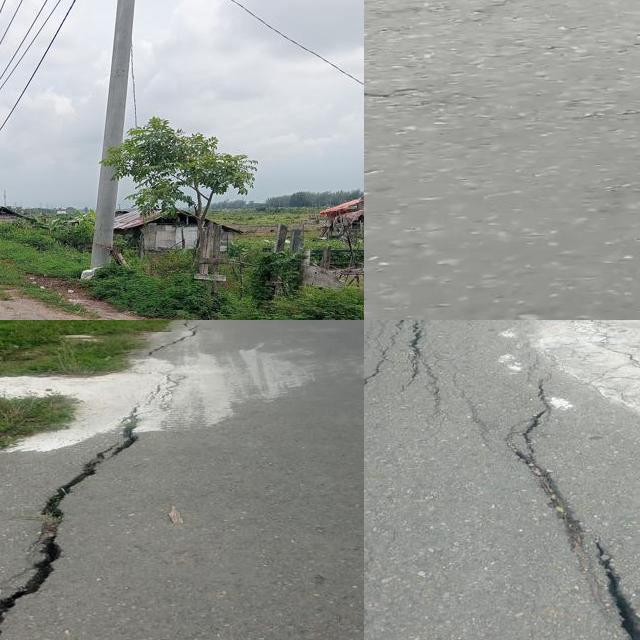Memanjang: (497, 373, 640, 640), (0, 403, 151, 640)
